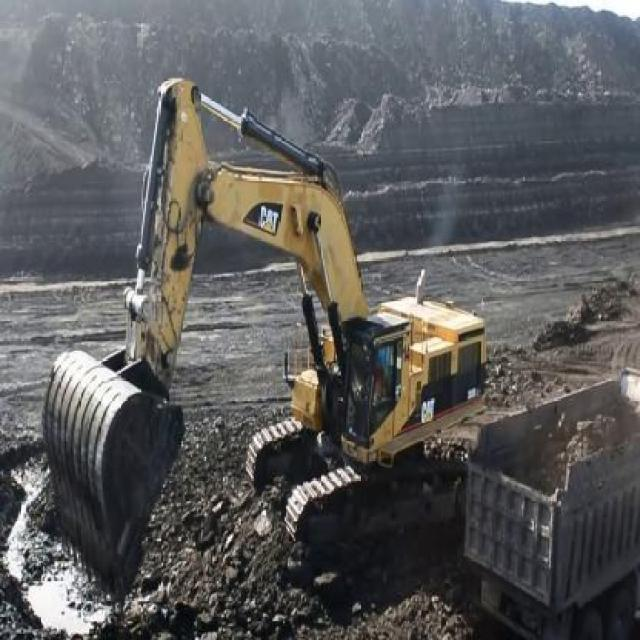Dump Truck: (466, 366, 640, 625)
Excavator: (36, 75, 490, 590)
